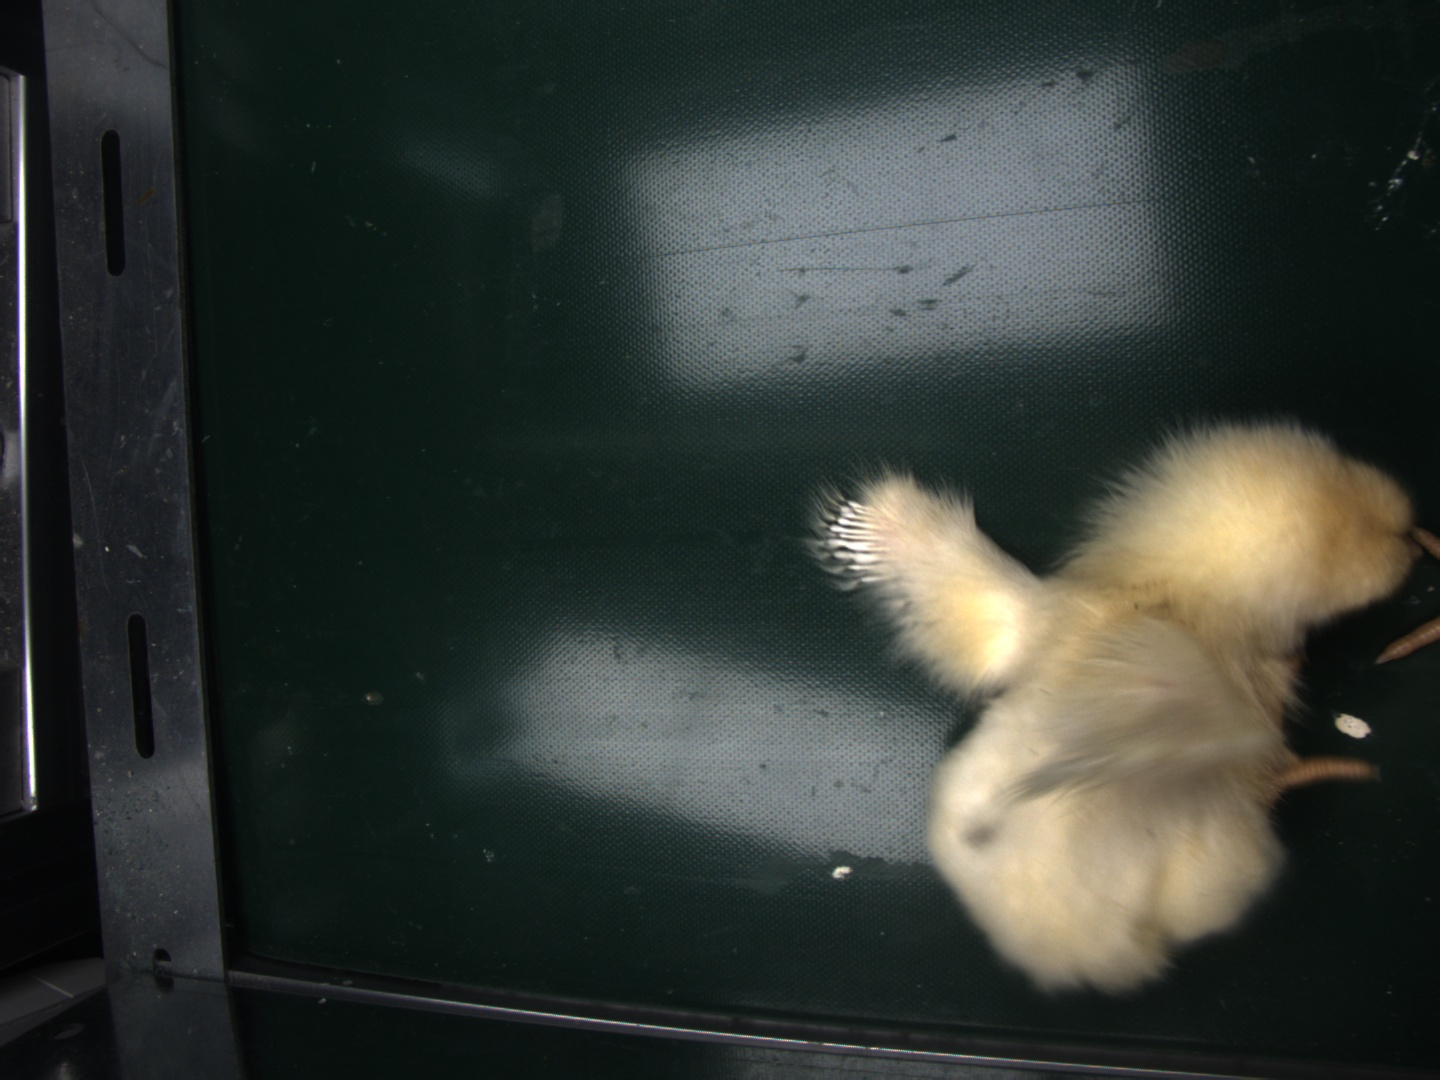male: (835, 499, 892, 585)
